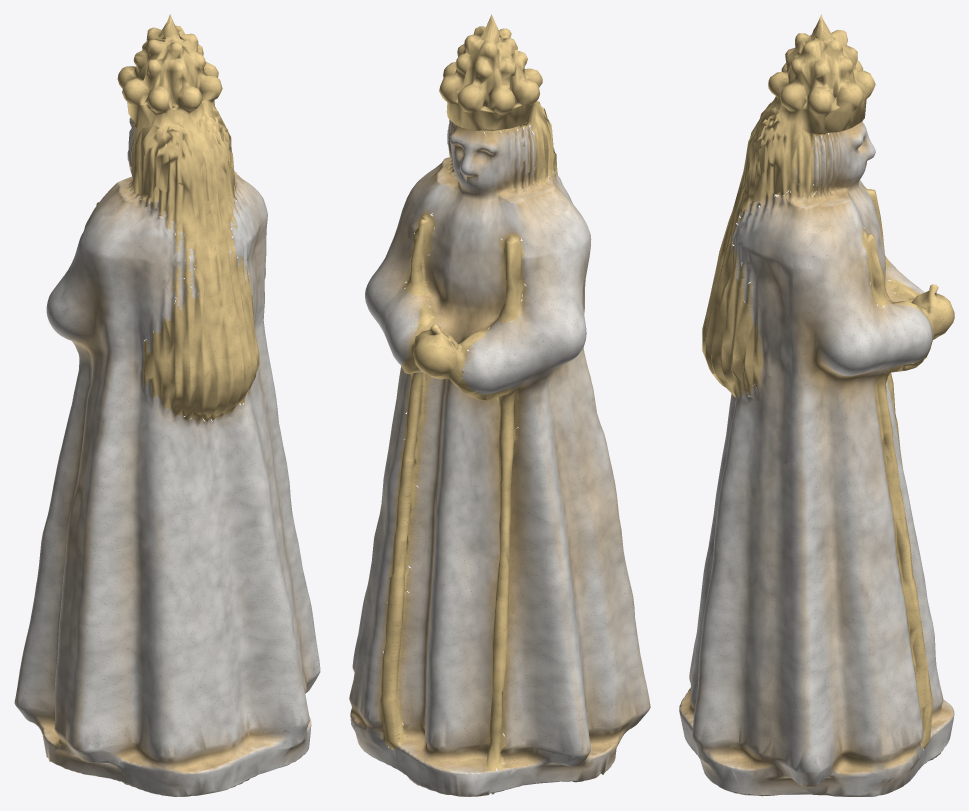
File: queen-white-hd.glb
3 renders of one model, left to right at view 1: azimuth 30°, elevation 25°; view 2: azimuth 150°, elevation 25°; view 3: azimuth 270°, elevation 25°, orthographic.
Visible parts, largest first — view 1: Argent Reliquary – White Queen; view 2: Argent Reliquary – White Queen; view 3: Argent Reliquary – White Queen.
Boxes of the visible parts, box(x1,y1,x2,y2) form: Argent Reliquary – White Queen: box(14, 14, 320, 796); Argent Reliquary – White Queen: box(349, 14, 650, 796); Argent Reliquary – White Queen: box(679, 14, 954, 796).
Bounding box in the file's own units: 0.5842 × 1.53 × 0.5206.
Materials: 2 (2 with a texture image).
